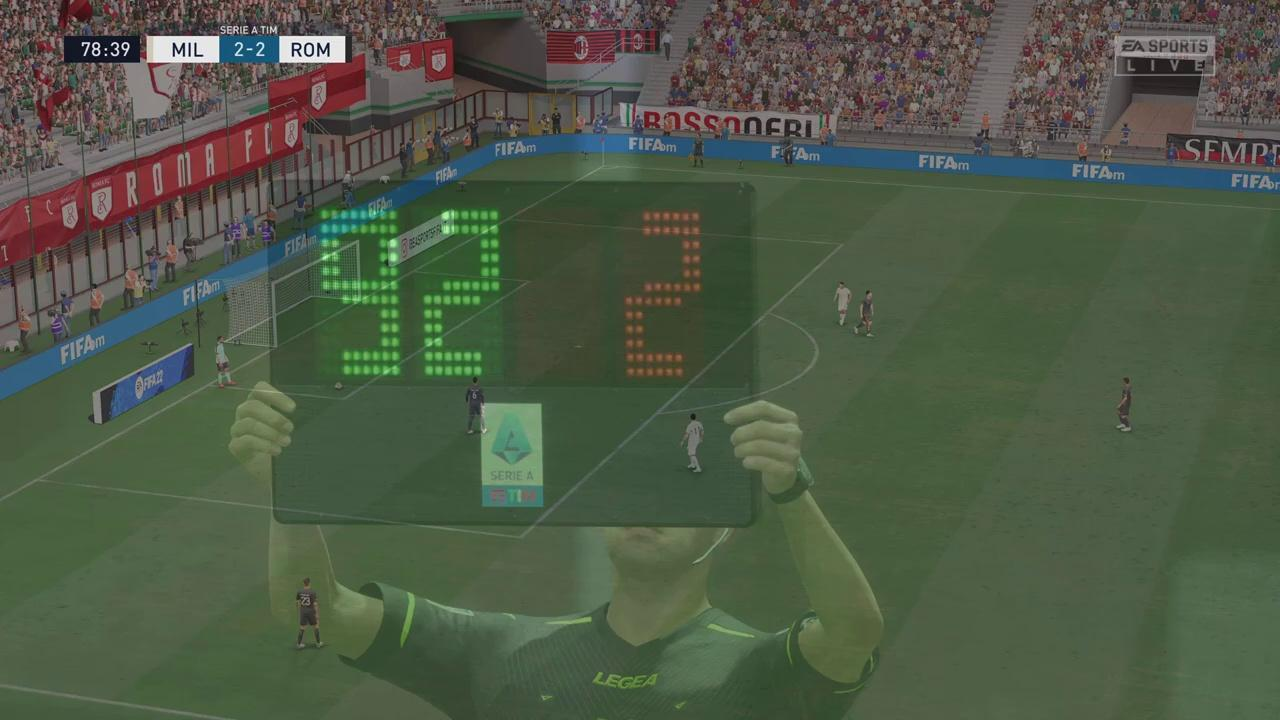scoreboard: (150, 37, 348, 62)
timestamp: (66, 38, 138, 60)
